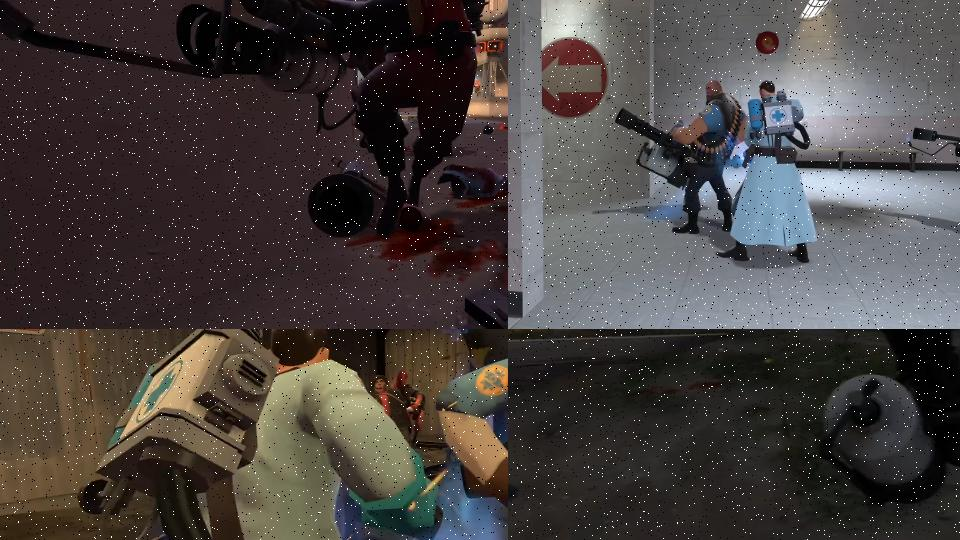Enemy: (0, 0, 490, 240), (88, 329, 444, 540), (821, 329, 960, 540), (614, 79, 748, 235), (715, 79, 820, 264), (905, 95, 960, 259), (370, 370, 412, 449), (402, 383, 425, 447)
